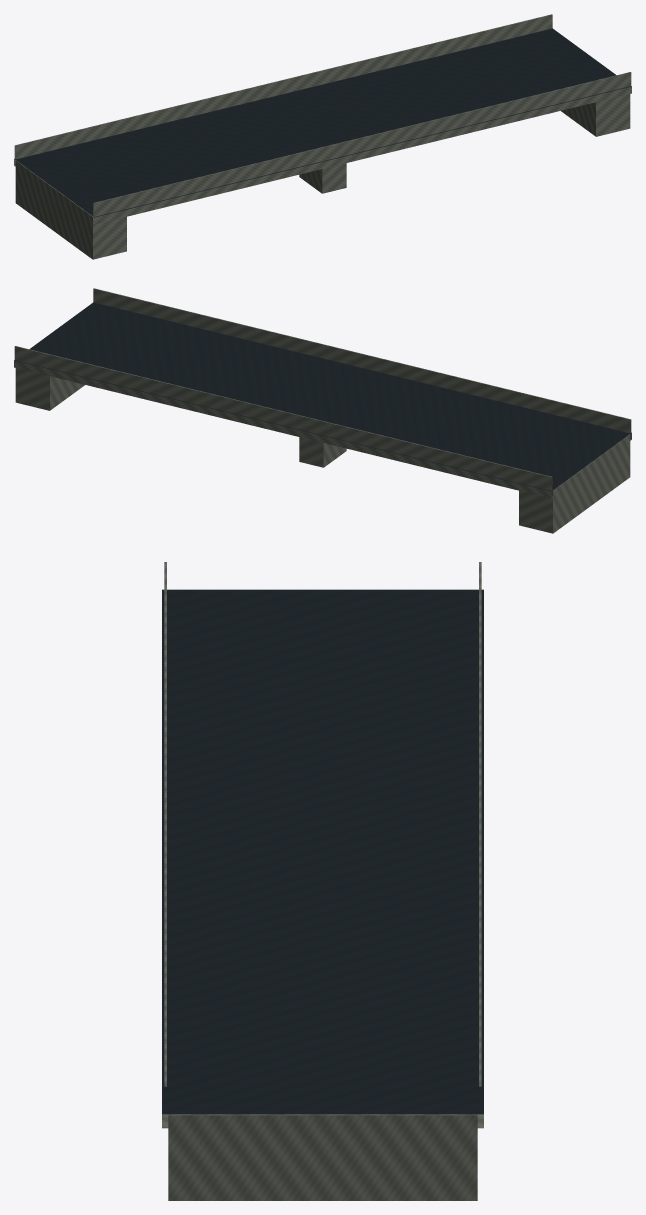
The model's file is bridge_2lane_32m_ShadowProxy.glb.
3 views of the same model, one above another, from view 1: azimuth 30°, elevation 25°; view 2: azimuth 150°, elevation 25°; view 3: azimuth 270°, elevation 25° (orthographic). The views are drawn at different scales.
Parts seen in each view (by area): view 1: bridge_2lane_32m__deck.003, bridge_2lane_32m__pier.003; view 2: bridge_2lane_32m__deck.003, bridge_2lane_32m__pier.003; view 3: bridge_2lane_32m__deck.003, bridge_2lane_32m__pier.003.
Part boxes in pixels (box(x1,y1,x2,y2)): bridge_2lane_32m__deck.003: box(14, 14, 631, 224); bridge_2lane_32m__pier.003: box(15, 94, 630, 259); bridge_2lane_32m__deck.003: box(14, 288, 631, 498); bridge_2lane_32m__pier.003: box(15, 368, 630, 533); bridge_2lane_32m__deck.003: box(162, 562, 483, 1128); bridge_2lane_32m__pier.003: box(168, 1114, 477, 1200).
Size of the model in its own units: 32 by 4.19 by 8.3.
Materials: 2 (2 with a texture image).
